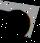Speed Limit -60-: (0, 7, 35, 40)
